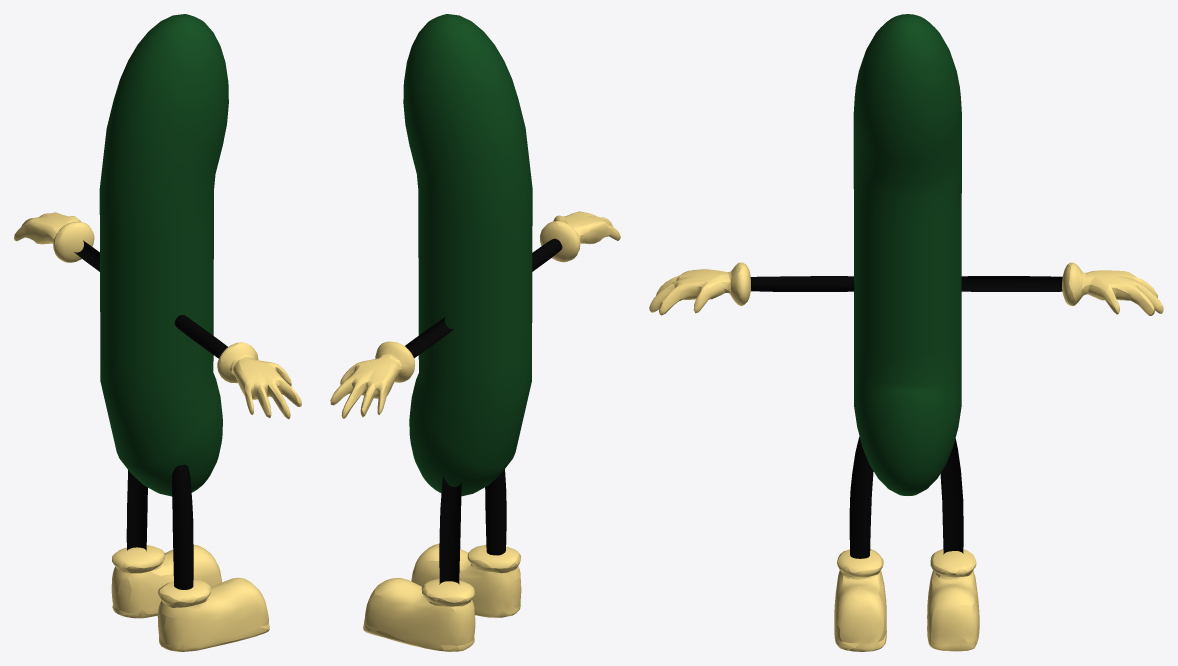
File: pepinoModel.fbx
3 renders of one model, left to right at view 1: azimuth 30°, elevation 25°; view 2: azimuth 150°, elevation 25°; view 3: azimuth 270°, elevation 25°, orthographic.
Visible parts, largest first — view 1: Esfera.001, Cubo.001; view 2: Esfera.001, Cubo.001; view 3: Esfera.001, Cubo.001.
Part boxes in pixels (x1,y1,x2,y2): Esfera.001: [99, 14, 228, 496]; Cubo.001: [14, 212, 301, 651]; Esfera.001: [403, 14, 532, 496]; Cubo.001: [330, 211, 620, 651]; Esfera.001: [853, 14, 961, 495]; Cubo.001: [649, 262, 1163, 651].
Bounding box in the file's own units: 445 × 1927 × 1474.
